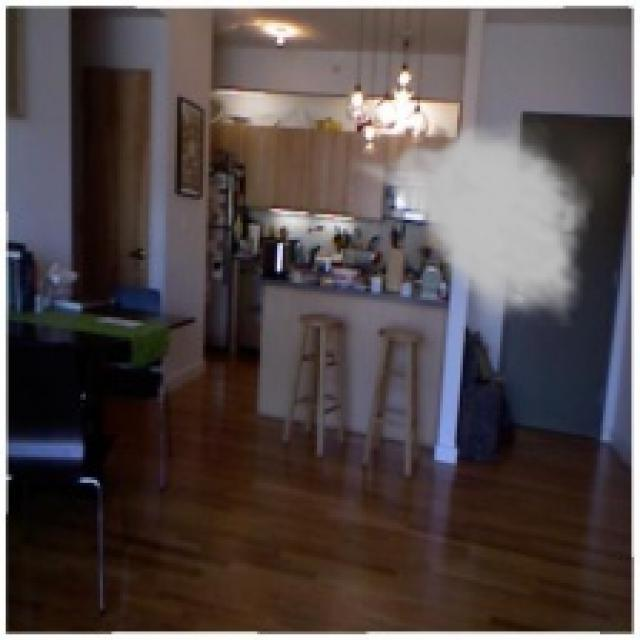Smoke: (346, 117, 594, 329)
